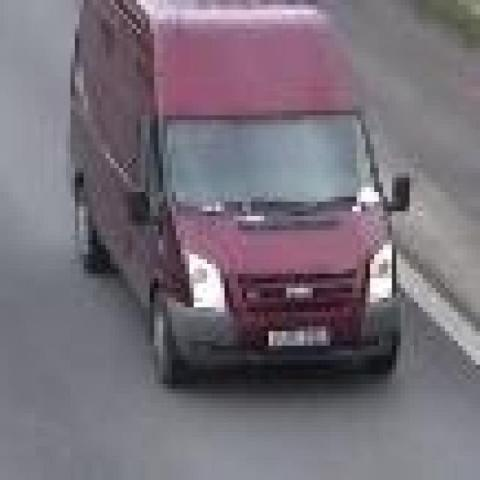van: (68, 0, 398, 388)
